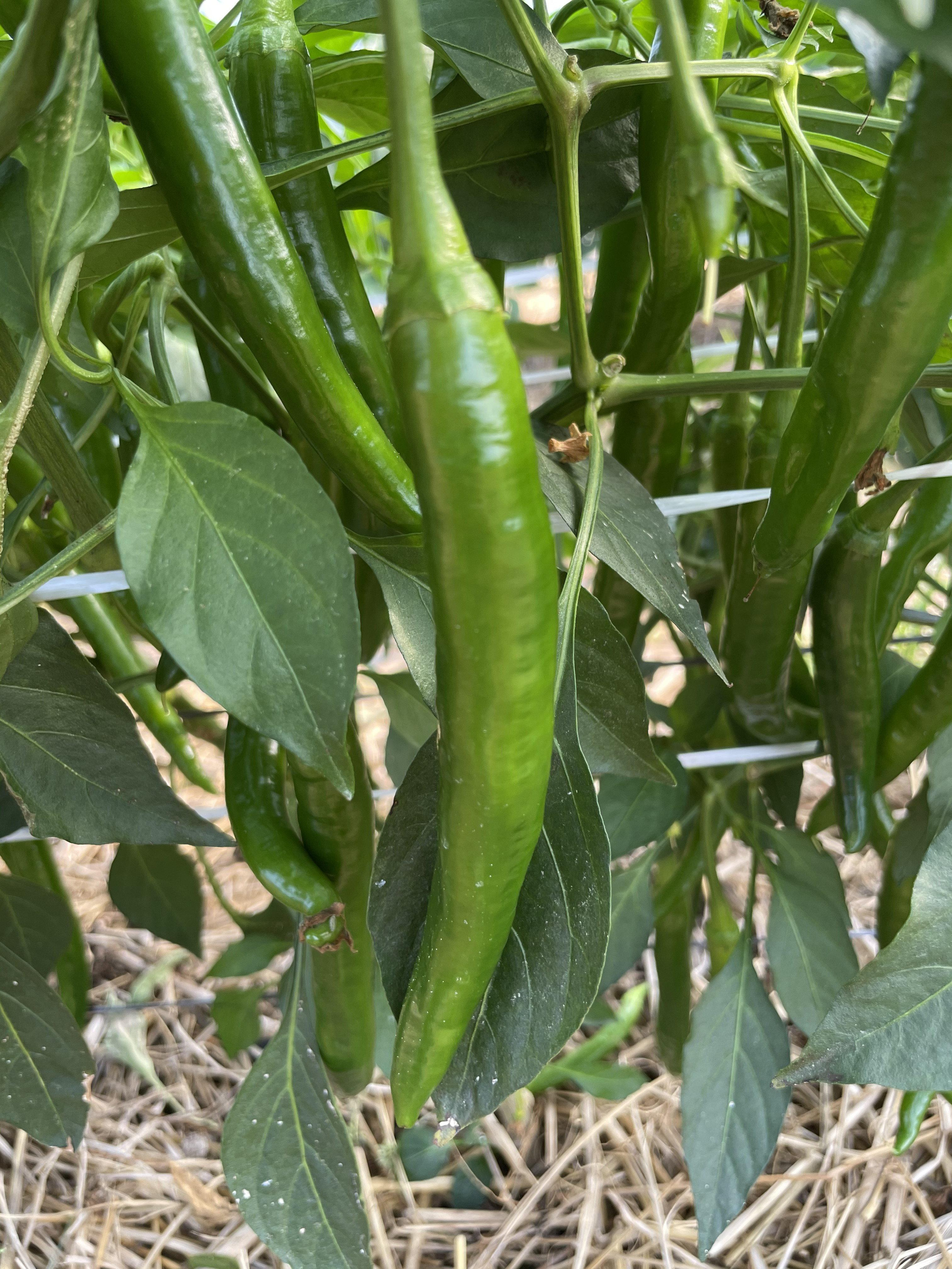Buah Cabai Sehat: (374, 188, 566, 1135), (84, 0, 426, 523), (753, 0, 952, 588), (808, 521, 892, 863)
Daun Cabai Sehat: (107, 388, 364, 799), (772, 787, 952, 1100), (222, 1020, 377, 1269), (678, 944, 796, 1269)
